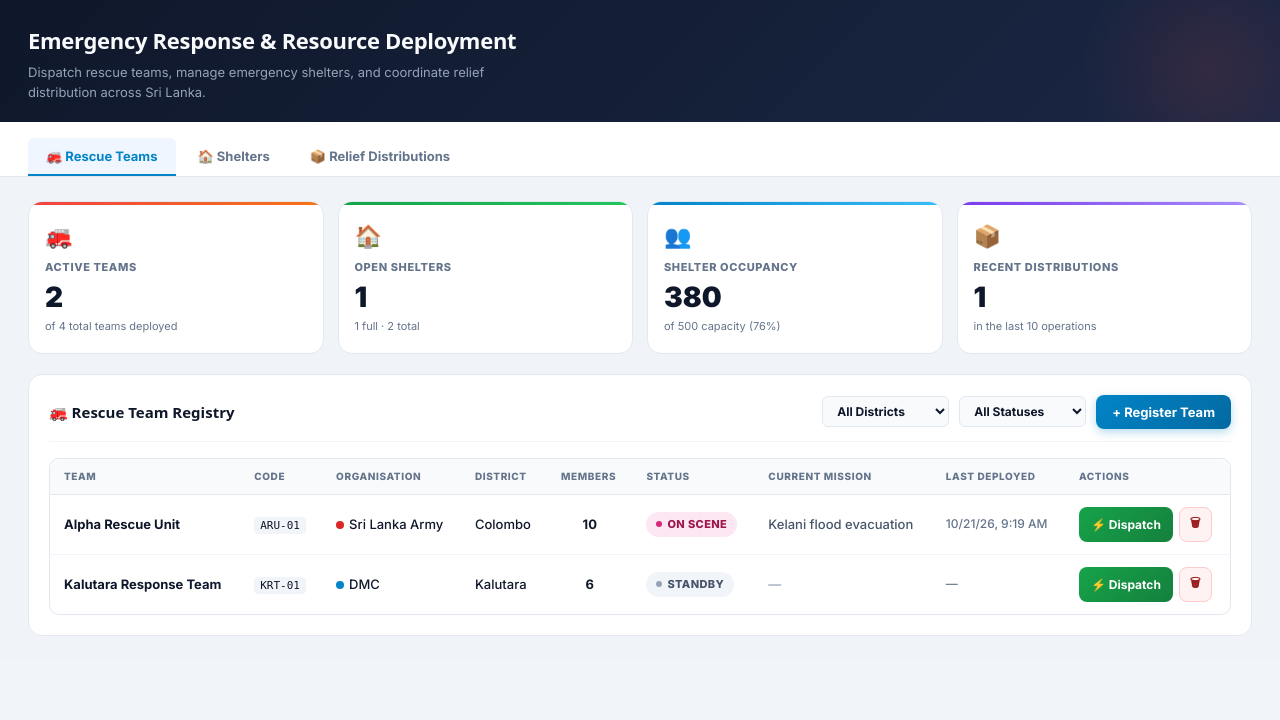
Test: EmergencyCoordinationDashboard – Filters & Empty States › TC-EC-15: Empty distributions list shows empty state message
The width and height of the screenshot is (1280, 720).
Check: the text "Alpha Rescue Unit" is shown, box [50,494,240,554]
Click the button "📦 Relief Distributions".
click(380, 157)  # box [292,138,468,176]
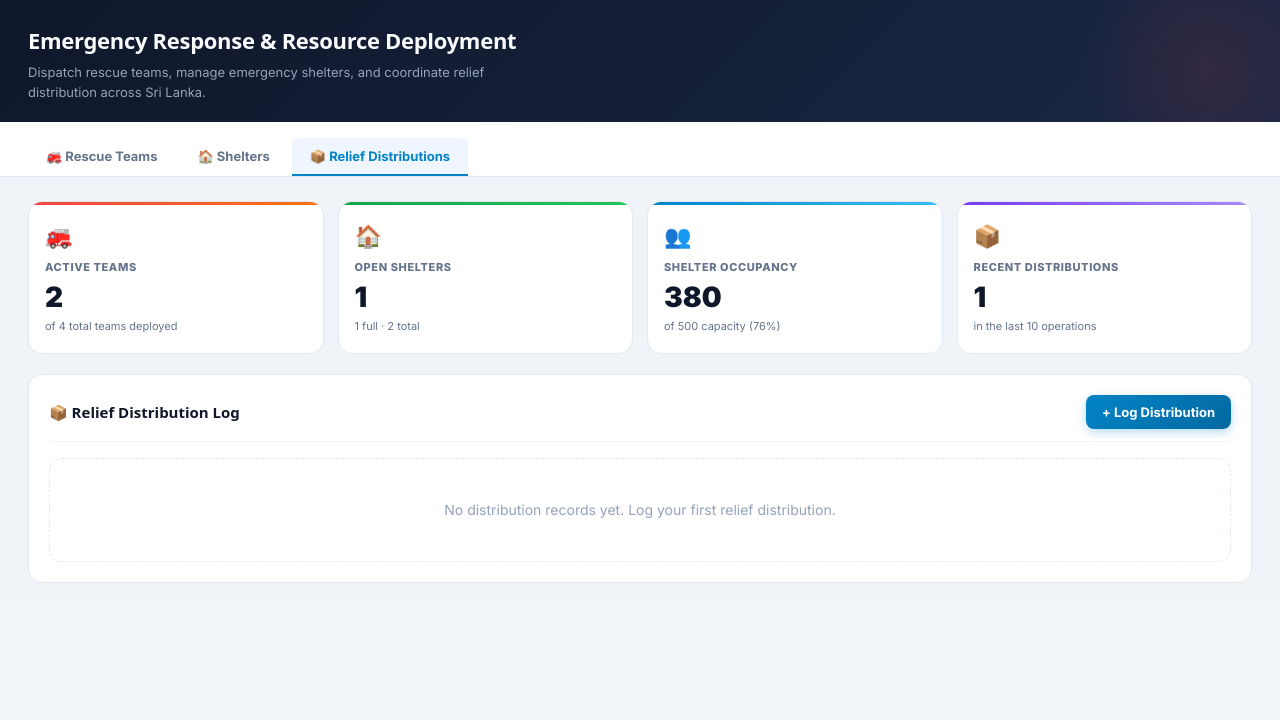
Check: the text "No distribution records yet" is shown, box [444,501,836,518]
